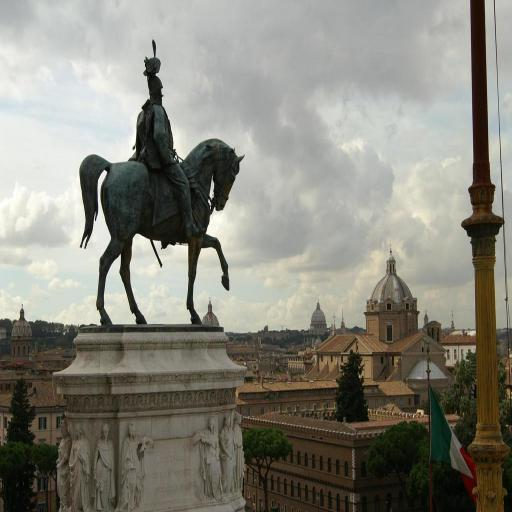horse: (79, 136, 245, 326)
